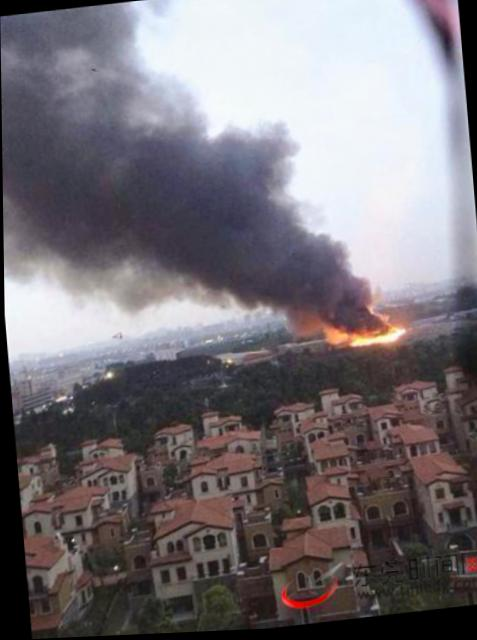fire: (323, 327, 398, 350)
